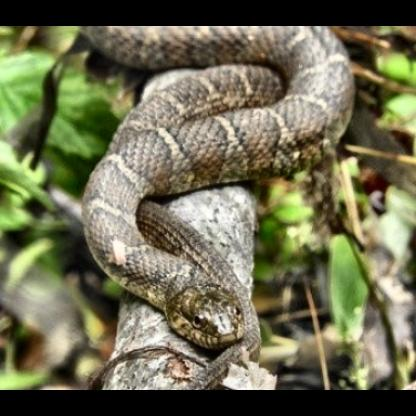Snake: (44, 29, 371, 387)
